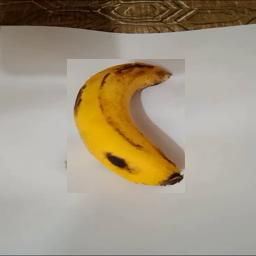Banana Semifresh: (67, 59, 185, 193)
